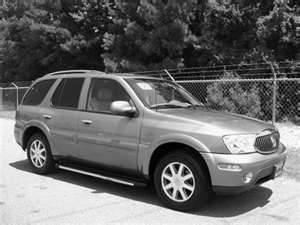car: (12, 68, 292, 212)
